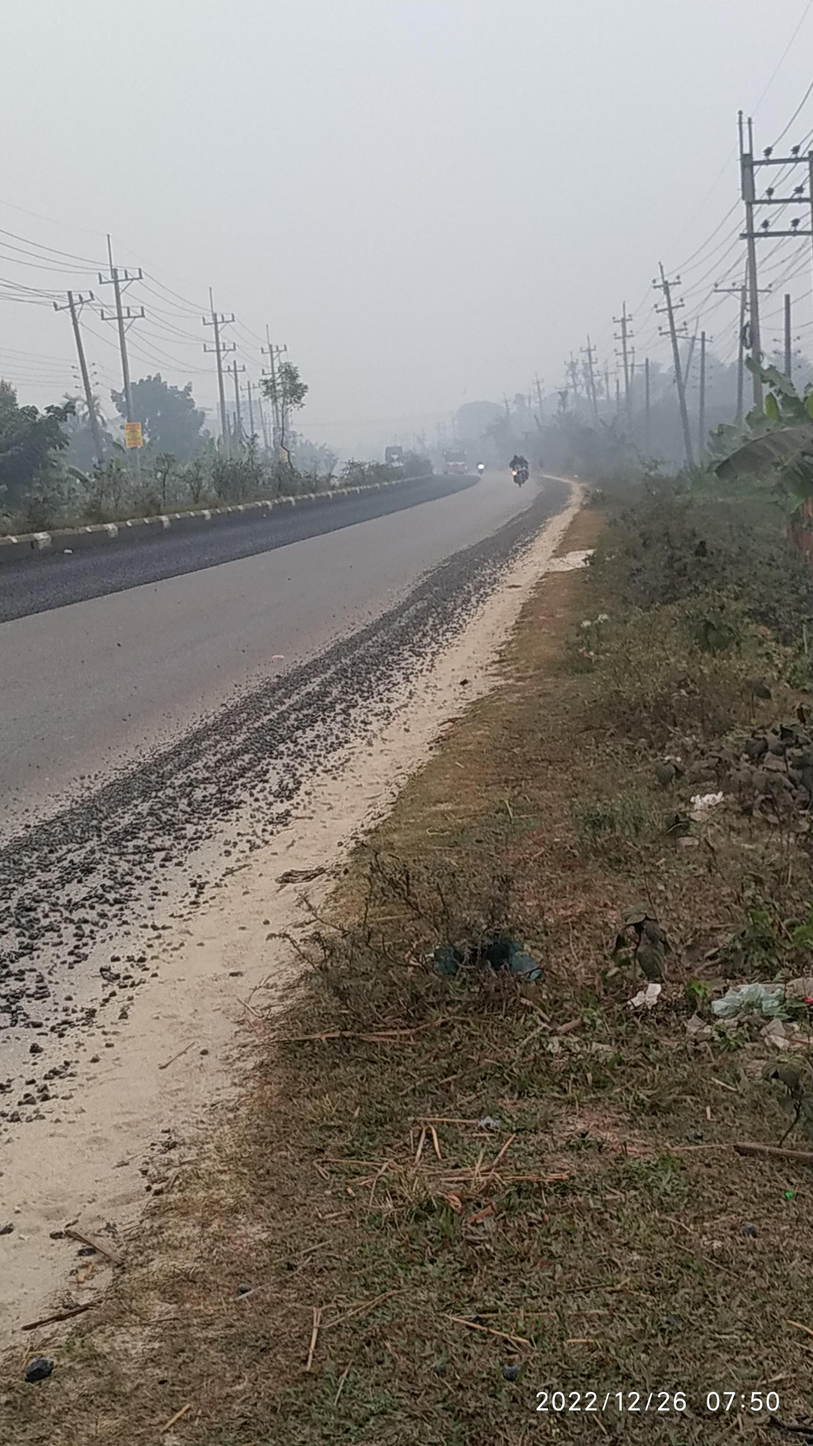Bike: (500, 446, 551, 500)
